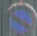No waiting: (3, 2, 35, 35)
